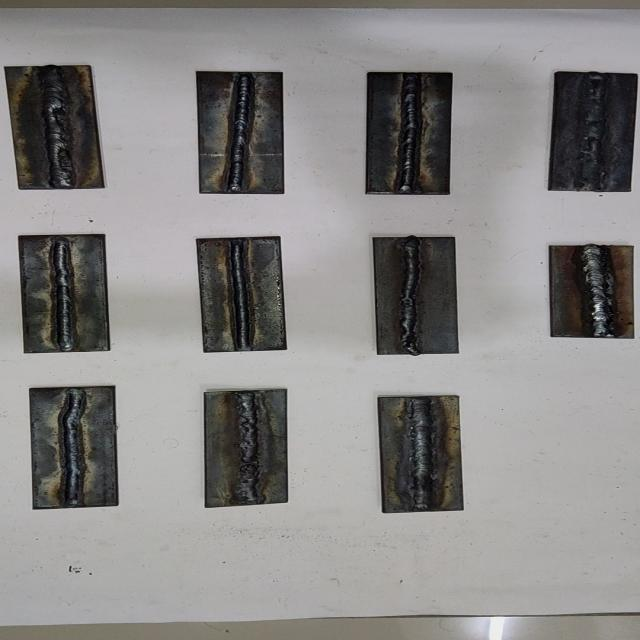Defect: (578, 131, 612, 157), (233, 459, 264, 481)
Welding Line: (40, 67, 70, 186), (580, 74, 610, 191), (227, 73, 255, 191), (394, 74, 422, 192), (62, 387, 88, 506), (398, 238, 424, 354), (582, 247, 612, 337), (236, 390, 260, 502), (408, 397, 431, 511), (229, 241, 250, 351), (54, 240, 74, 350)
Workpiece: (2, 62, 108, 190), (188, 232, 292, 354), (13, 232, 115, 354), (542, 68, 640, 194), (27, 384, 122, 511), (194, 68, 288, 196), (199, 385, 292, 510), (369, 233, 462, 356), (373, 394, 468, 514), (363, 70, 453, 196), (542, 242, 638, 342)
